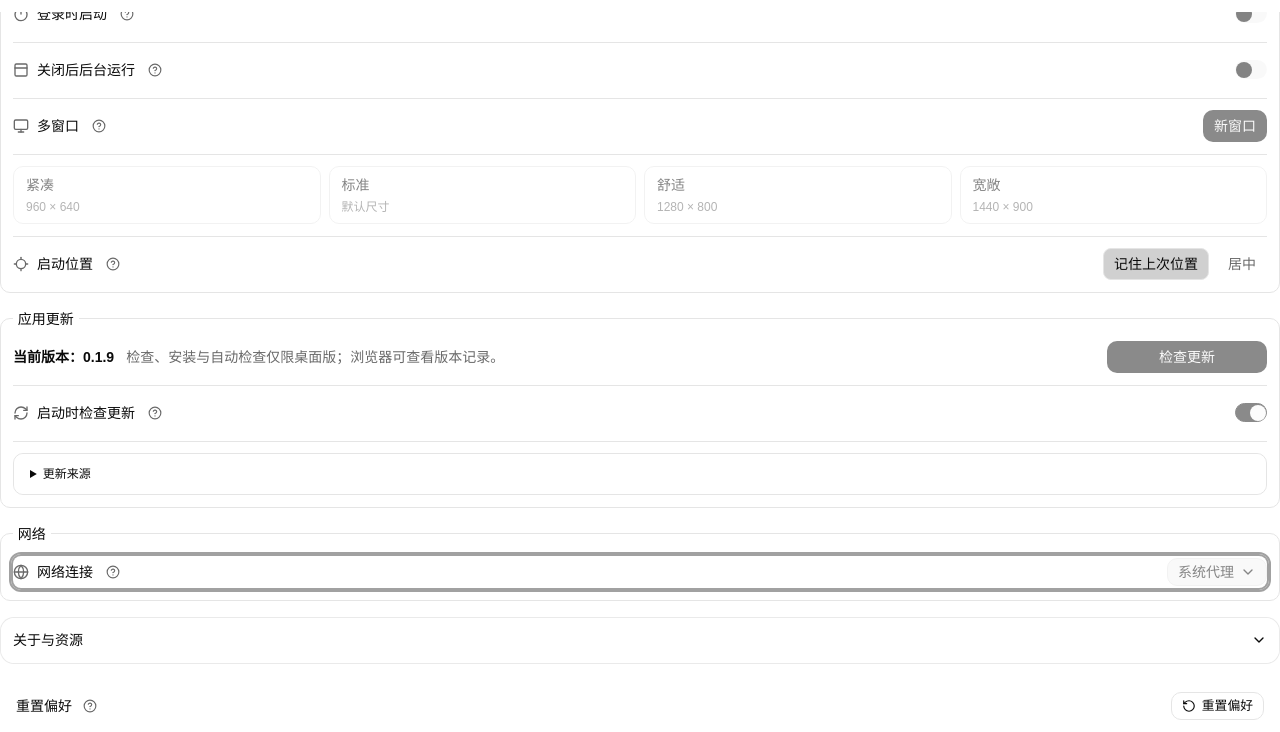
Test: 设置页 › 网络位于设置末段并提供连接深链，浏览器禁用修改且按需说明连接由浏览器控制
(page scrolled)
Expected: the text "网络" is shown, [18, 526, 46, 542]
Expected: the dropdown named "网络连接" is disabled, [1167, 558, 1267, 586]
Step 1. Focus the button named "了解网络连接" → point(113, 572), box [101, 560, 125, 584]
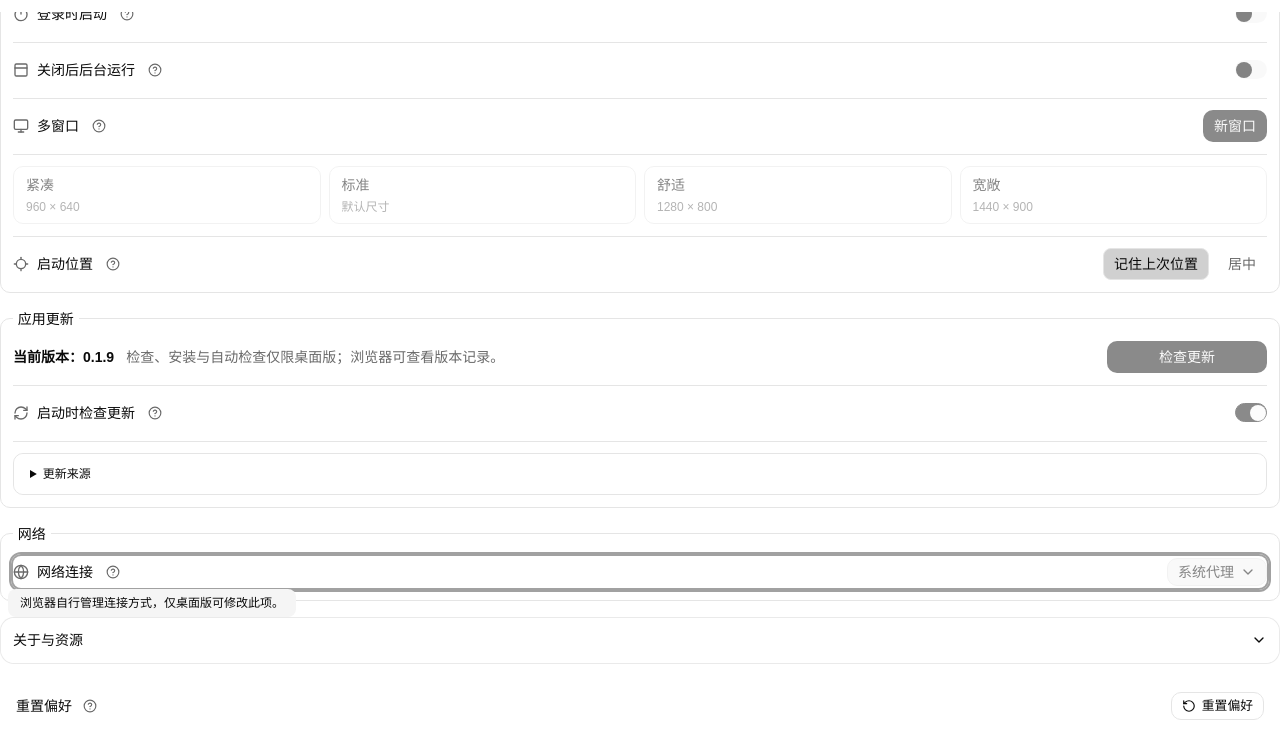
Expected: the tooltip reads "浏览器自行管理连接方式，仅桌面版可修改此项。", [20, 596, 284, 610]
